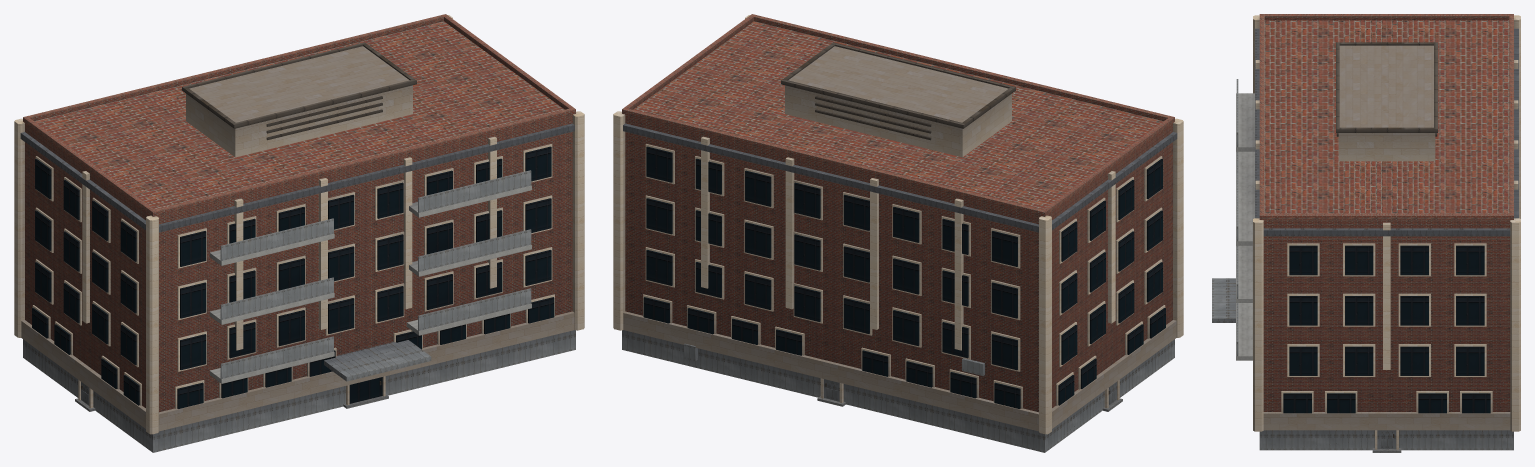
The model's file is harborview-condos_lod0.gltf.
The picture shows the model from 3 angles, left to right: view 1: azimuth 30°, elevation 25°; view 2: azimuth 150°, elevation 25°; view 3: azimuth 270°, elevation 25°; orthographic projection. The views are drawn at different scales.
Parts seen in each view (by area): view 1: harborview-condos_upper, harborview-condos__v4_stone_detail, harborview-condos_fen_07-glass-curtain-blue_1_t, harborview-condos_base, harborview-condos_fen_04-limestone_0, harborview-condos__cornice, harborview-condos__v4_metal_detail, harborview-condos__parapet_front, harborview-condos__parapet_back, harborview-condos__canopy, harborview-condos__rail_a3, harborview-condos__rail_b2 (+12 smaller); view 2: harborview-condos_upper, harborview-condos__v4_stone_detail, harborview-condos_fen_07-glass-curtain-blue_1_t, harborview-condos_fen_04-limestone_0, harborview-condos_base, harborview-condos__cornice, harborview-condos__v4_metal_detail, harborview-condos__parapet_back, harborview-condos__parapet_front, harborview-condos__parapet_left, harborview-condos__parapet_right, harborview-condos_fen_14-steel-panel_4; view 3: harborview-condos_upper, harborview-condos__v4_stone_detail, harborview-condos_fen_07-glass-curtain-blue_1_t, harborview-condos_base, harborview-condos_fen_04-limestone_0, harborview-condos__cornice, harborview-condos__parapet_right, harborview-condos__parapet_left, harborview-condos__v4_metal_detail, harborview-condos__parapet_front, harborview-condos__canopy, harborview-condos__balcony_a3 (+5 smaller).
Part boxes in pixels (x1=…): harborview-condos_upper: x1=25, y1=21, x2=572, y2=412; harborview-condos__v4_stone_detail: x1=14, y1=15, x2=584, y2=434; harborview-condos_fen_07-glass-curtain-blue_1_t: x1=32, y1=146, x2=554, y2=408; harborview-condos_base: x1=23, y1=330, x2=575, y2=452; harborview-condos_fen_04-limestone_0: x1=32, y1=144, x2=554, y2=408; harborview-condos__cornice: x1=20, y1=123, x2=574, y2=232; harborview-condos__v4_metal_detail: x1=182, y1=42, x2=416, y2=140; harborview-condos__parapet_front: x1=150, y1=107, x2=575, y2=216; harborview-condos__parapet_back: x1=23, y1=14, x2=447, y2=122; harborview-condos__canopy: x1=324, y1=340, x2=431, y2=381; harborview-condos__rail_a3: x1=220, y1=218, x2=333, y2=260; harborview-condos__rail_b2: x1=418, y1=229, x2=531, y2=271; harborview-condos_upper: x1=625, y1=21, x2=1172, y2=412; harborview-condos__v4_stone_detail: x1=613, y1=15, x2=1183, y2=434; harborview-condos_fen_07-glass-curtain-blue_1_t: x1=643, y1=146, x2=1165, y2=408; harborview-condos_fen_04-limestone_0: x1=643, y1=144, x2=1165, y2=408; harborview-condos_base: x1=622, y1=330, x2=1174, y2=452; harborview-condos__cornice: x1=623, y1=123, x2=1177, y2=232; harborview-condos__v4_metal_detail: x1=781, y1=42, x2=1015, y2=140; harborview-condos__parapet_back: x1=622, y1=107, x2=1047, y2=216; harborview-condos__parapet_front: x1=750, y1=14, x2=1174, y2=122; harborview-condos__parapet_left: x1=1043, y1=118, x2=1172, y2=214; harborview-condos__parapet_right: x1=624, y1=16, x2=753, y2=109; harborview-condos_fen_14-steel-panel_4: x1=684, y1=343, x2=1116, y2=405; harborview-condos_upper: x1=1263, y1=20, x2=1510, y2=411; harborview-condos__v4_stone_detail: x1=1253, y1=15, x2=1520, y2=431; harborview-condos_fen_07-glass-curtain-blue_1_t: x1=1283, y1=245, x2=1490, y2=413; harborview-condos_base: x1=1259, y1=430, x2=1513, y2=450; harborview-condos_fen_04-limestone_0: x1=1281, y1=243, x2=1492, y2=449; harborview-condos__cornice: x1=1255, y1=28, x2=1518, y2=236; harborview-condos__parapet_right: x1=1264, y1=213, x2=1509, y2=219; harborview-condos__parapet_left: x1=1264, y1=14, x2=1509, y2=20; harborview-condos__v4_metal_detail: x1=1336, y1=42, x2=1437, y2=136; harborview-condos__parapet_front: x1=1259, y1=14, x2=1264, y2=219; harborview-condos__canopy: x1=1212, y1=278, x2=1235, y2=322; harborview-condos__balcony_a3: x1=1236, y1=93, x2=1254, y2=151.
Bounding box in the file's own units: 30.85 × 18.3 × 19.43.
